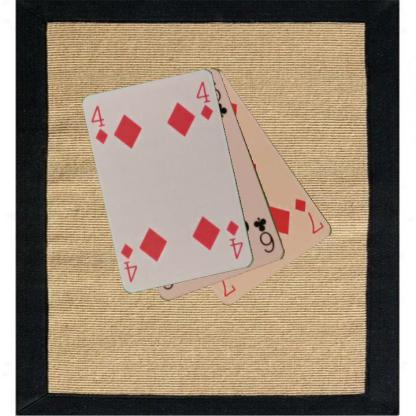4d: (88, 102, 110, 146), (224, 218, 245, 260)
6c: (251, 214, 276, 255)
7d: (292, 195, 326, 236)
